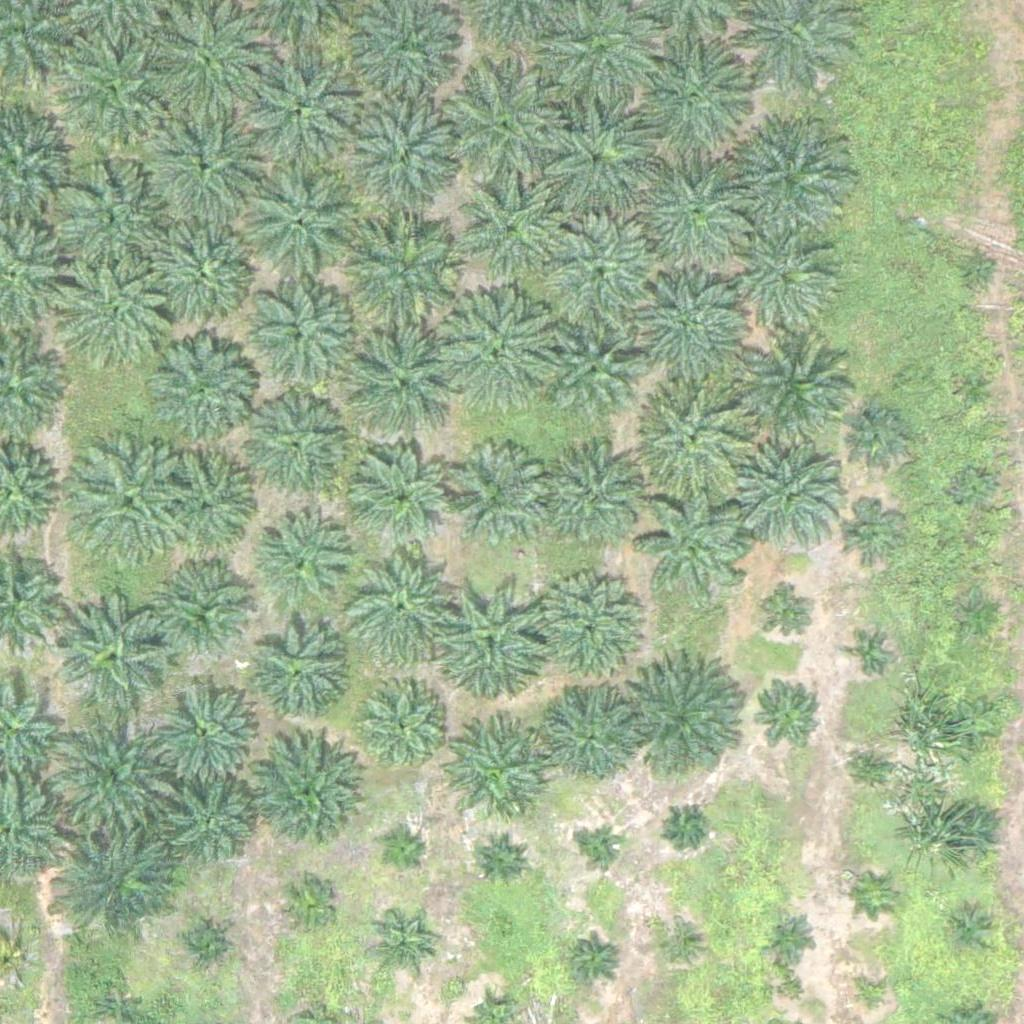Kelapa_Sawit: (56, 257, 181, 383), (49, 159, 174, 285), (143, 100, 268, 226), (139, 207, 264, 333), (135, 328, 260, 454), (237, 278, 362, 404), (237, 161, 362, 287), (343, 208, 468, 334), (342, 324, 467, 450), (440, 64, 565, 190), (530, 98, 655, 224), (538, 220, 663, 346), (625, 271, 750, 397), (633, 157, 758, 283), (628, 36, 753, 162), (726, 119, 851, 245), (737, 339, 862, 465), (431, 578, 556, 704), (339, 544, 464, 670), (64, 439, 189, 565), (49, 709, 174, 835), (57, 820, 182, 946), (243, 44, 368, 169), (343, 95, 468, 220), (438, 291, 563, 416), (627, 659, 752, 784), (248, 740, 361, 854), (639, 486, 752, 599), (528, 572, 641, 685), (149, 670, 261, 784), (59, 590, 171, 704), (736, 446, 848, 559), (640, 381, 752, 494), (437, 722, 549, 835), (64, 36, 164, 137), (463, 182, 563, 283), (737, 234, 837, 335), (538, 683, 638, 784), (544, 448, 644, 549), (443, 447, 543, 548), (353, 450, 453, 551), (352, 677, 452, 778), (241, 397, 341, 498), (253, 513, 353, 614), (155, 446, 255, 547), (245, 622, 345, 722), (158, 561, 258, 661), (167, 781, 255, 869), (548, 330, 635, 419), (751, 675, 826, 750), (369, 920, 432, 983), (275, 874, 338, 937), (942, 803, 1005, 866), (838, 502, 901, 565), (848, 404, 911, 467), (946, 907, 996, 958), (765, 592, 815, 643), (953, 701, 1003, 752), (176, 920, 226, 971), (476, 835, 526, 885), (570, 933, 620, 983), (766, 912, 816, 962), (377, 830, 427, 880), (860, 877, 898, 915), (667, 805, 705, 843), (953, 468, 991, 506), (957, 370, 995, 408), (958, 251, 996, 289), (960, 594, 998, 632), (853, 978, 891, 1016), (584, 831, 621, 869), (661, 929, 698, 967), (851, 639, 888, 676), (855, 749, 892, 786)
